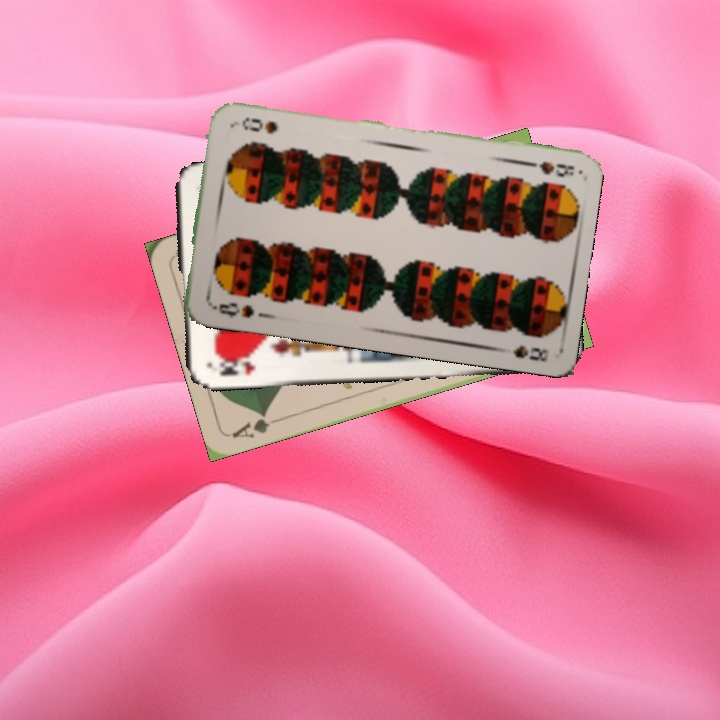GA: (228, 408, 285, 441)
HK: (215, 353, 258, 379)
S8: (205, 291, 257, 320), (518, 156, 577, 180)
